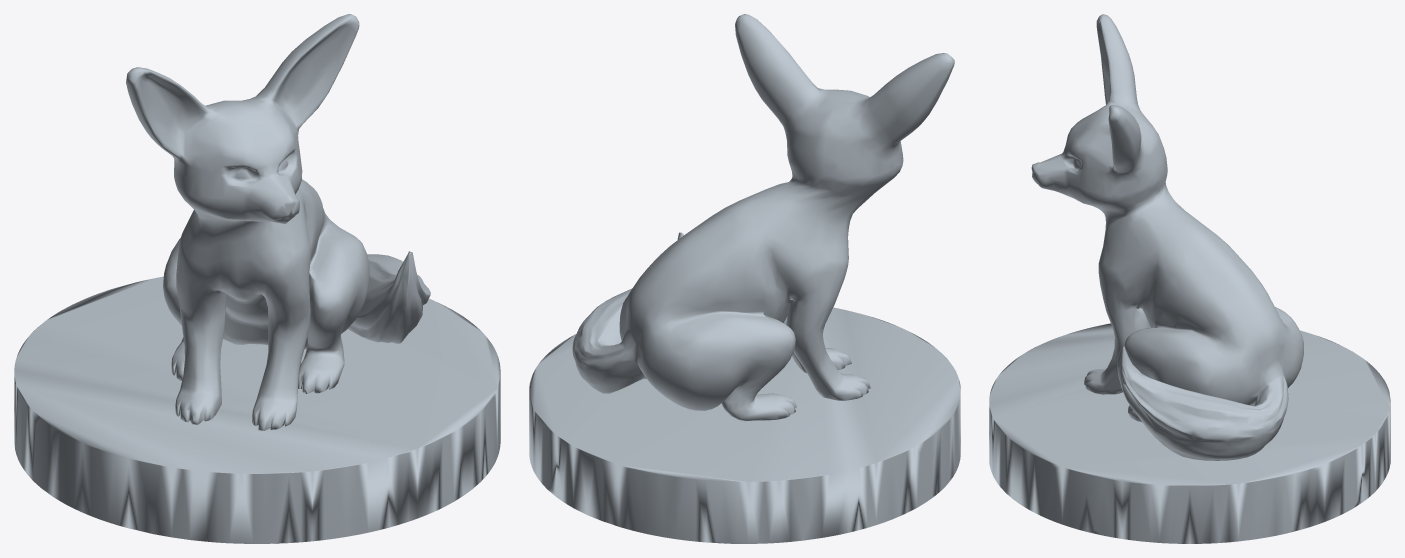
File: fennec-fox.glb
3 renders of one model, left to right at view 1: azimuth 30°, elevation 25°; view 2: azimuth 150°, elevation 25°; view 3: azimuth 270°, elevation 25°, orthographic. The views are drawn at different scales.
Parts seen in each view (by area): view 1: Fennec_Fox.001; view 2: Fennec_Fox.001; view 3: Fennec_Fox.001.
Part boxes in pixels (<box>): Fennec_Fox.001: <box>14,14,500,543</box>; Fennec_Fox.001: <box>529,14,960,543</box>; Fennec_Fox.001: <box>989,14,1390,543</box>.
Bounding box in the file's own units: 16.37 × 16.84 × 16.37.
Materials: 1 (1 with a texture image).
